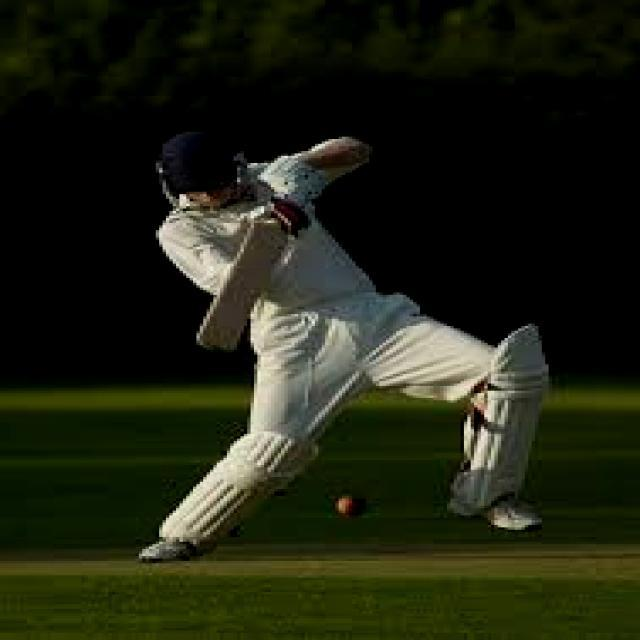bat: (193, 208, 286, 362)
toe: (190, 340, 236, 357)
